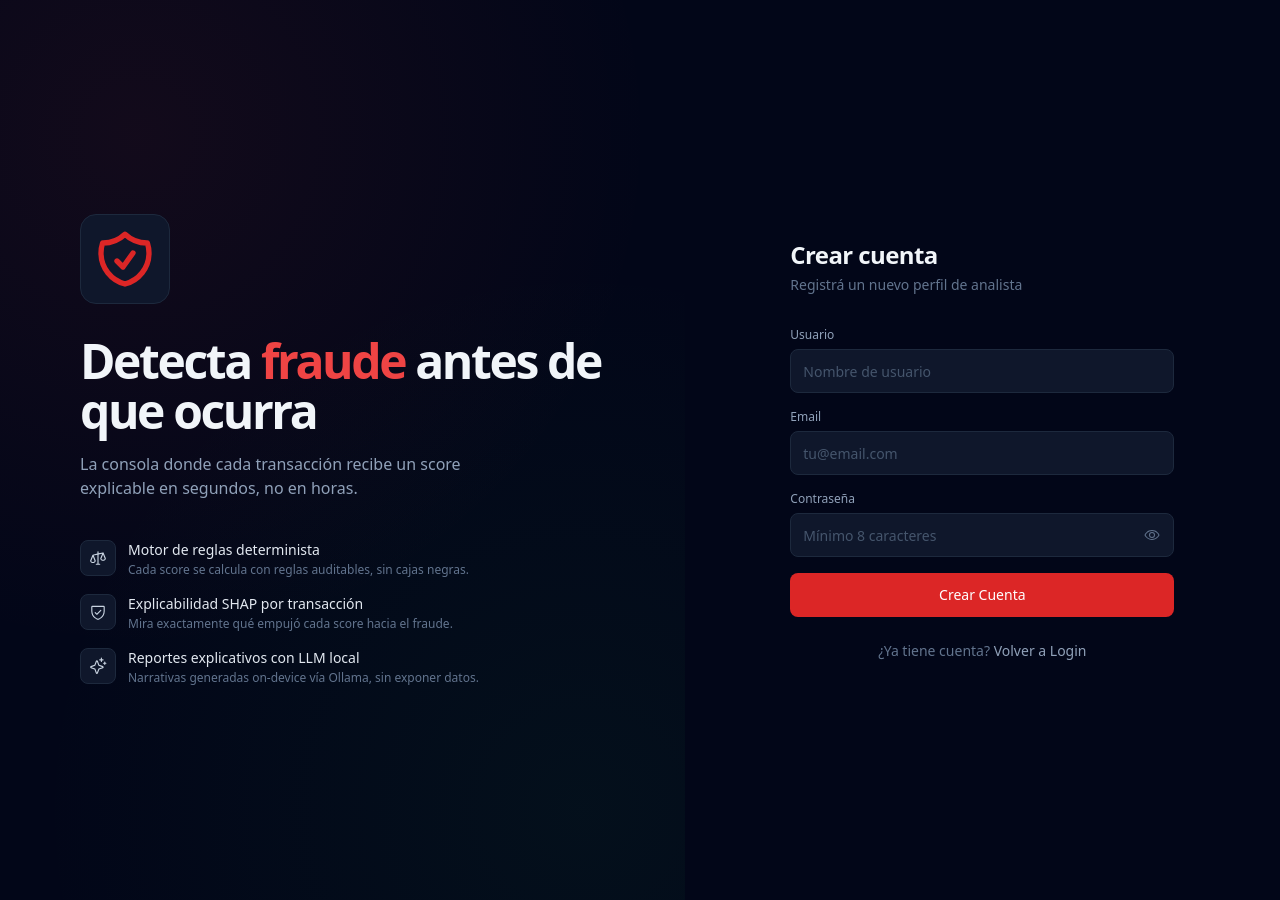
Test case: RegisterPage › keeps the success state with a link back to login after registration
Type "analyst" into the field labelled "Usuario".
click(982, 371); type("analyst")  # box [790, 349, 1174, 393]
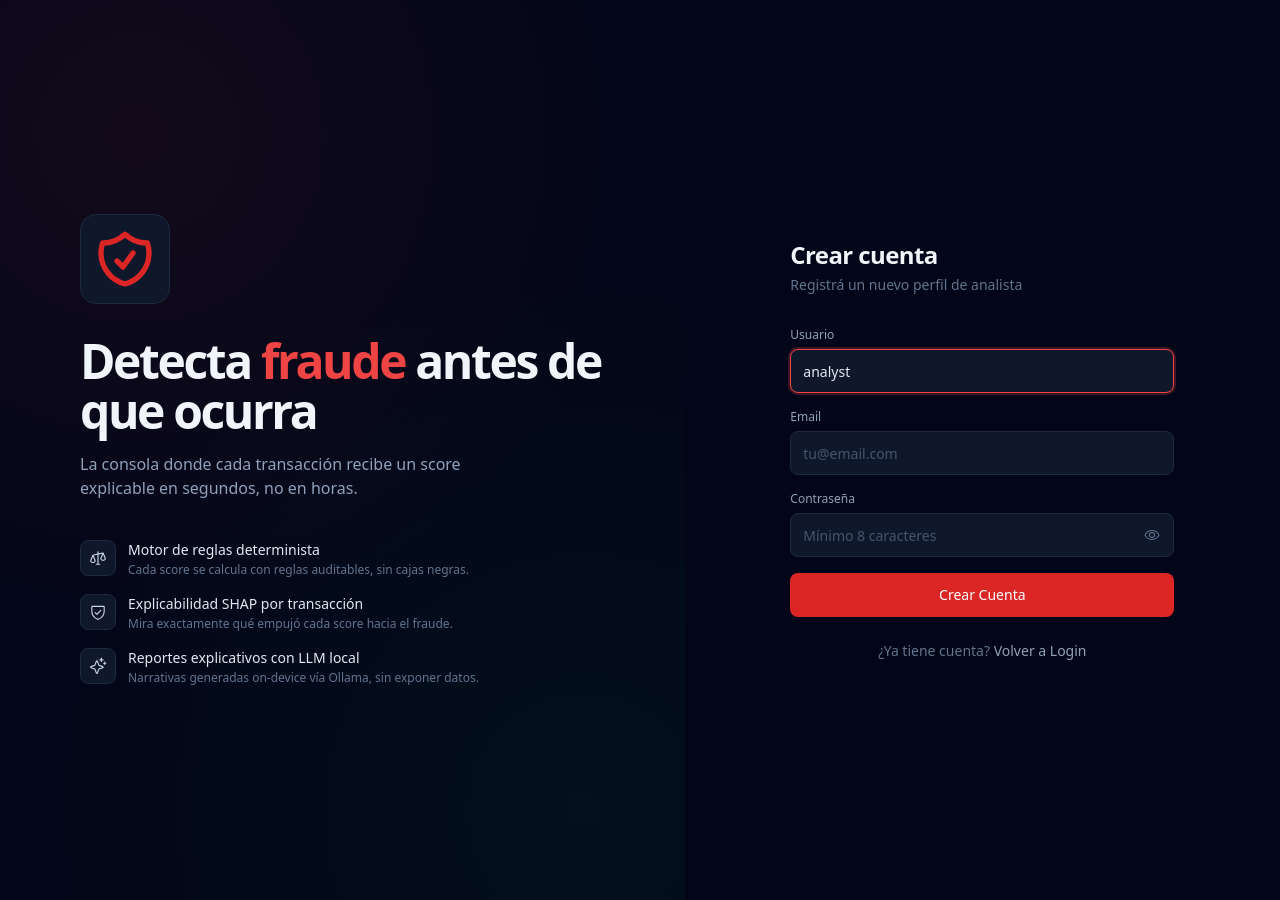
Type "a@b.com" into the field labelled "Email".
click(982, 453); type("a@b.com")  # box [790, 431, 1174, 475]
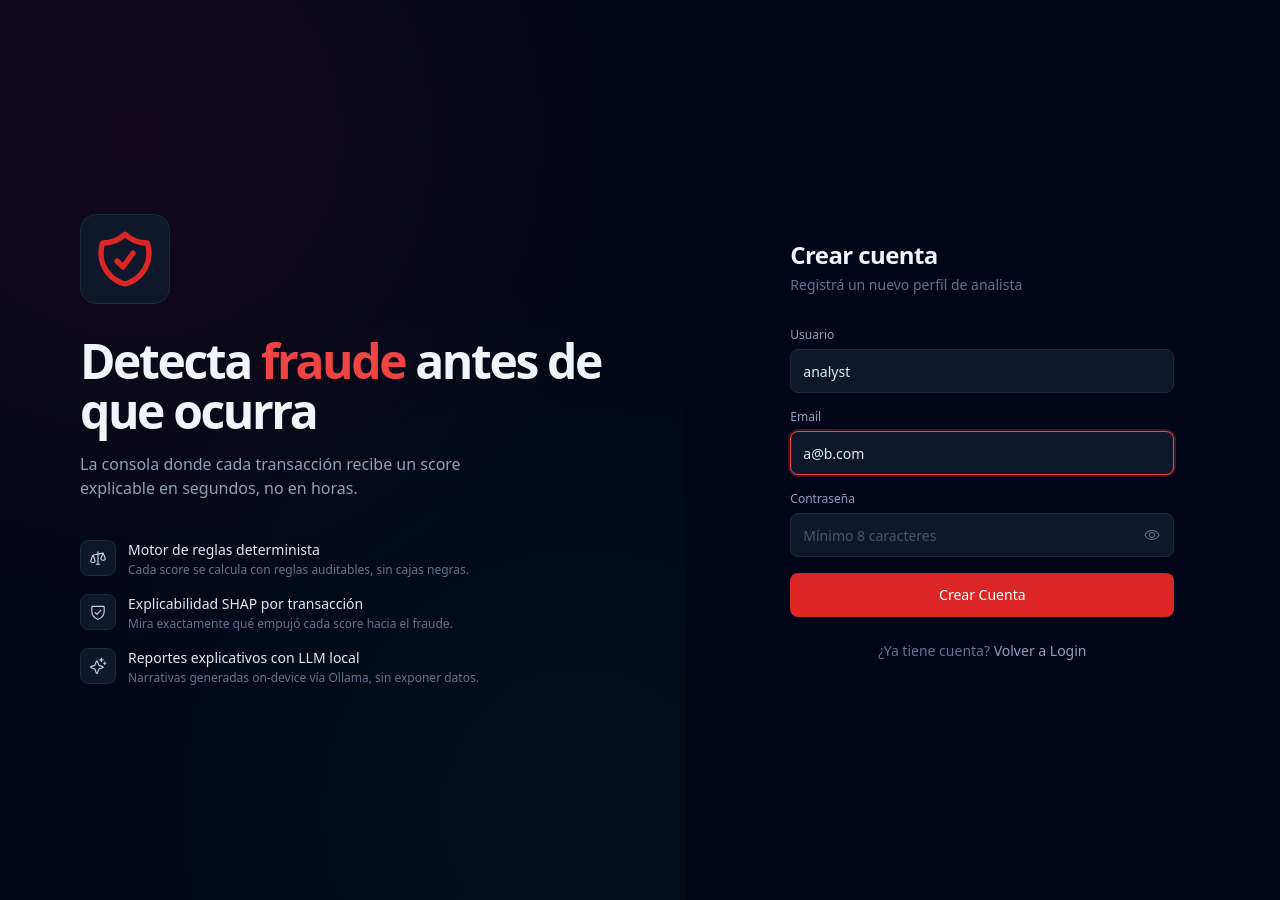
Type "Sup3rSecure!" into the password field labelled "Contraseña".
click(982, 535); type("Sup3rSecure!")  # box [790, 513, 1174, 557]
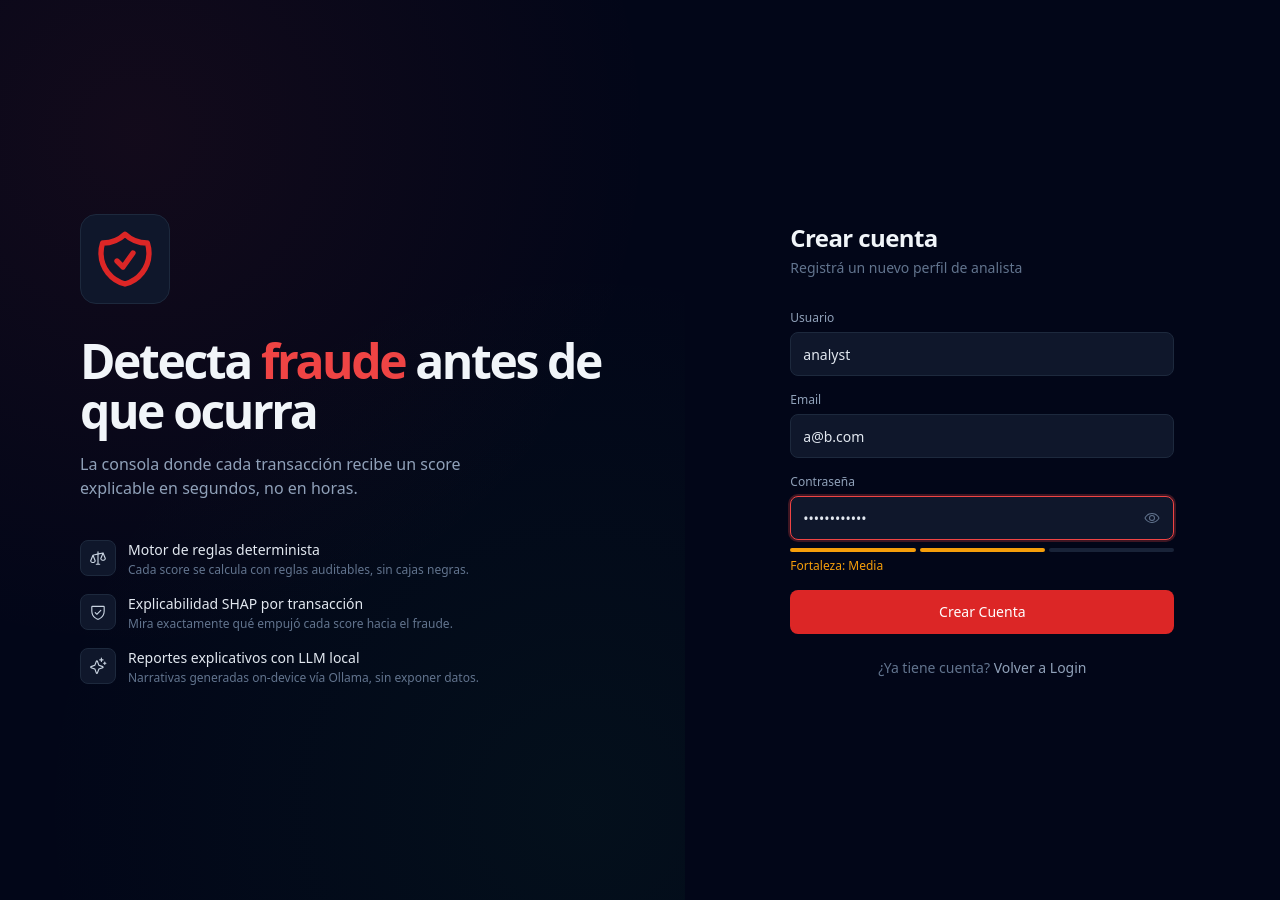
Click the button "Crear Cuenta".
click(982, 612)  # box [790, 590, 1174, 634]
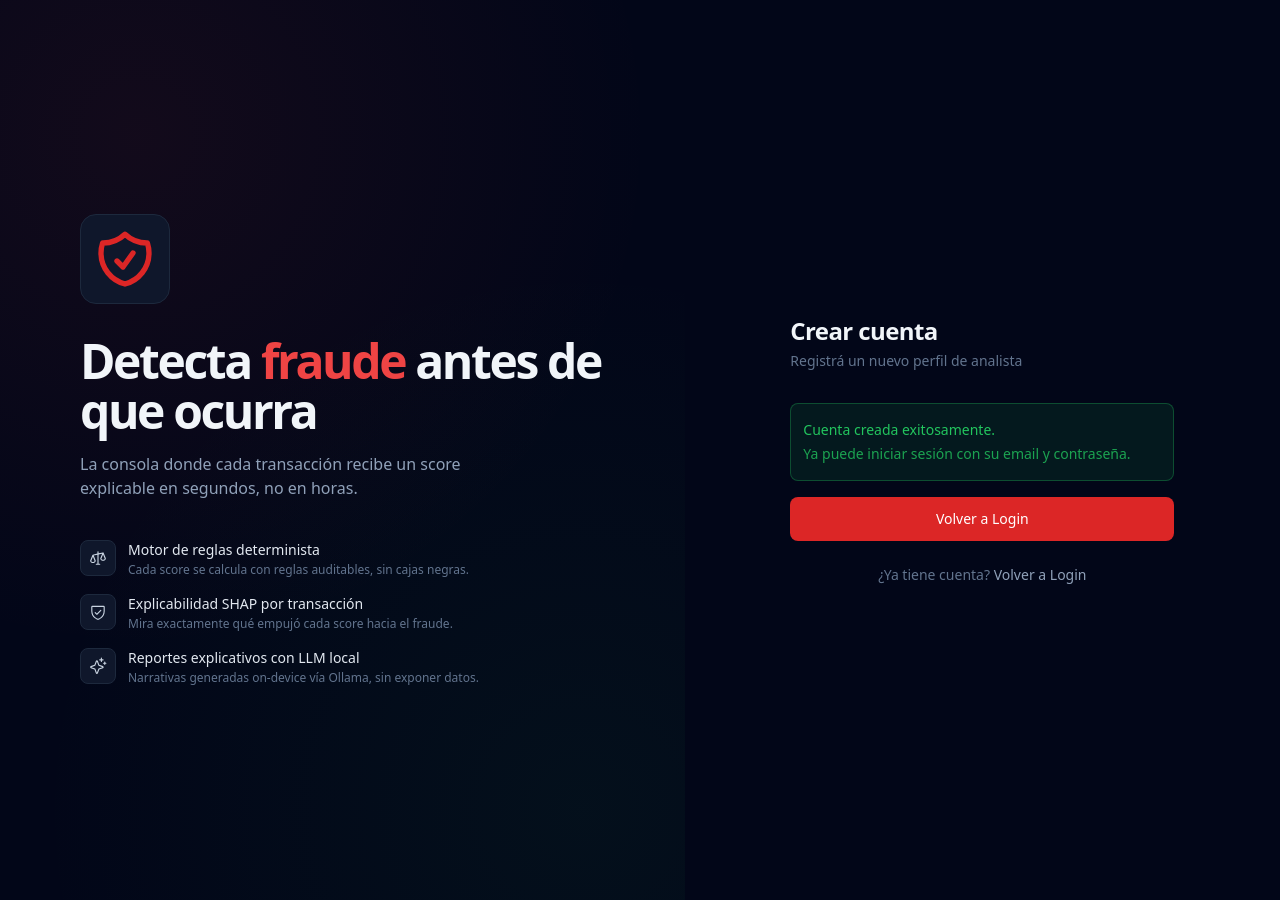
Expected: the text "Cuenta creada exitosamente." is shown, [803, 420, 995, 439]
